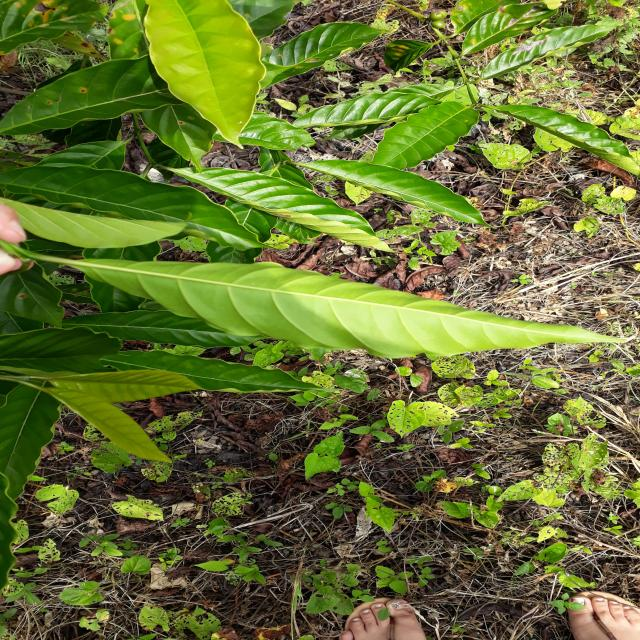Sanas: (73, 263, 615, 360)
